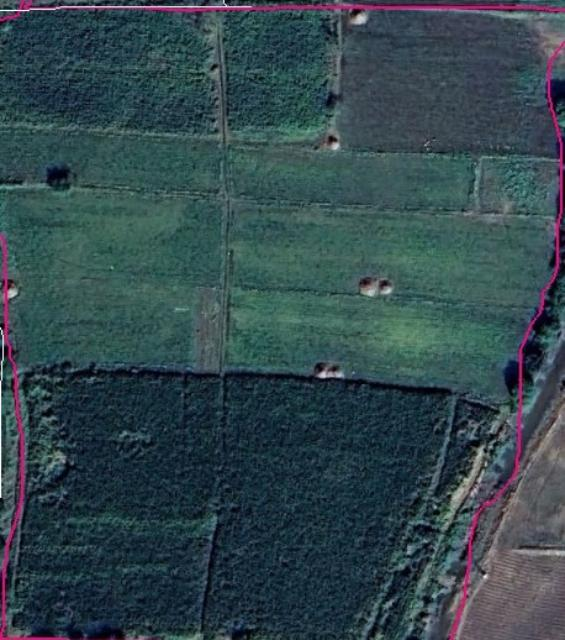EmptyFarms: (451, 401, 565, 639)
Farms: (15, 375, 455, 637), (226, 147, 557, 410), (1, 190, 228, 378), (337, 4, 563, 157), (0, 8, 225, 141), (222, 4, 336, 144), (0, 130, 231, 198), (476, 159, 561, 219)
